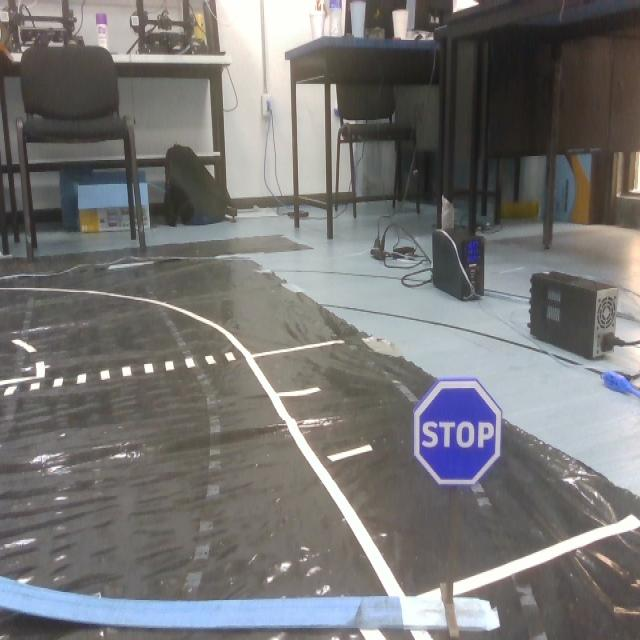no_entry: (421, 378, 498, 493)
